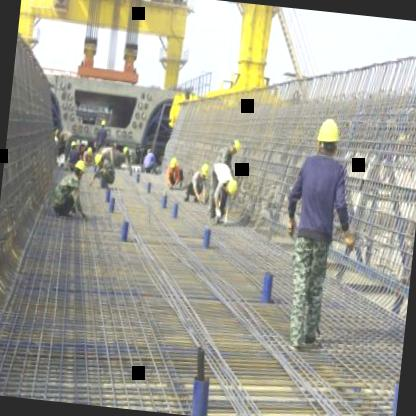helmet: (313, 113, 343, 160), (69, 154, 87, 180), (222, 176, 241, 198), (227, 135, 245, 157), (196, 160, 214, 182), (89, 147, 106, 170), (168, 154, 178, 170)
